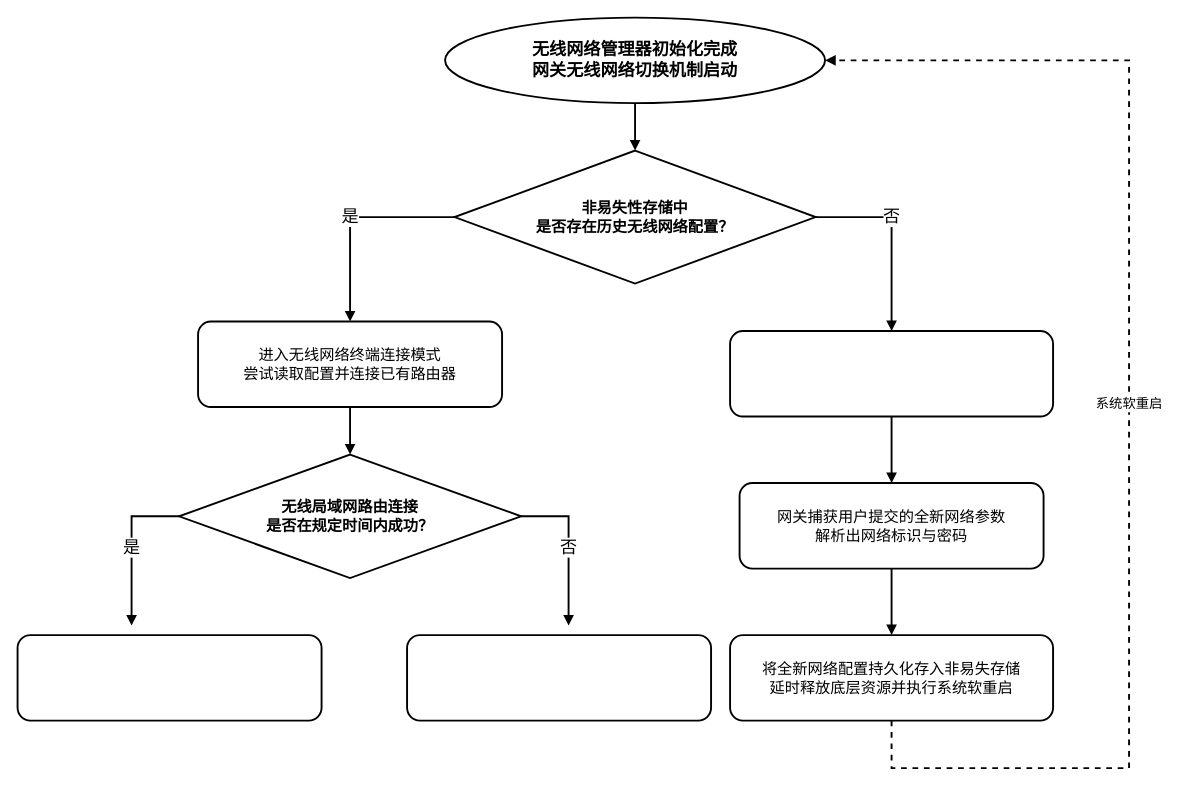
The diagram is 1178 pixels wide and 792 high, and some of its shapes have lost their labels. Each missing label, with the centre of its shape:
"更新主事件标志组中的无线连接状态 启动物联网平台连接服务" belongs at pixel 169 677.
"触发无线网络链路异常切换逻辑 切换至蜂窝网络备份链路" belongs at pixel 559 677.
"进入无线网络本地热点配网模式 自建无密码热点并开启本地配置网页" belongs at pixel 891 373.
